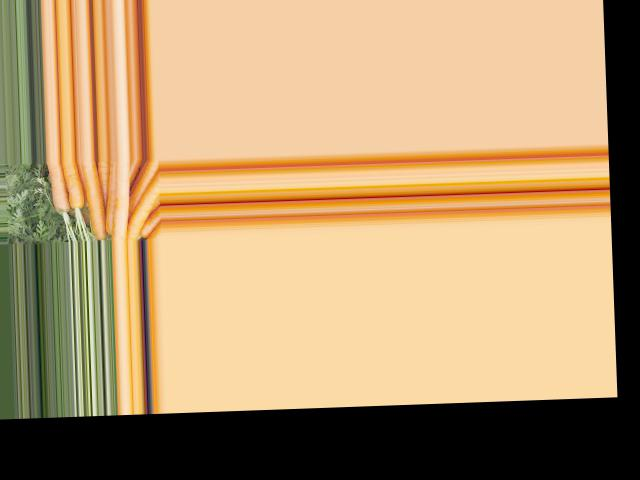carrot: (127, 175, 160, 238)
